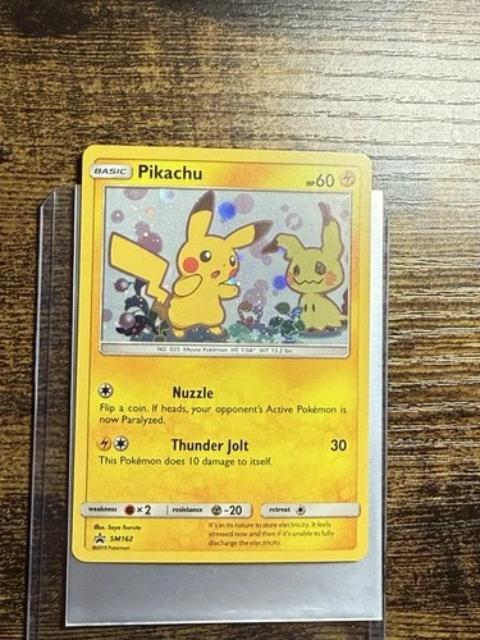Card: (63, 143, 379, 563)
Name: (131, 160, 209, 182)
